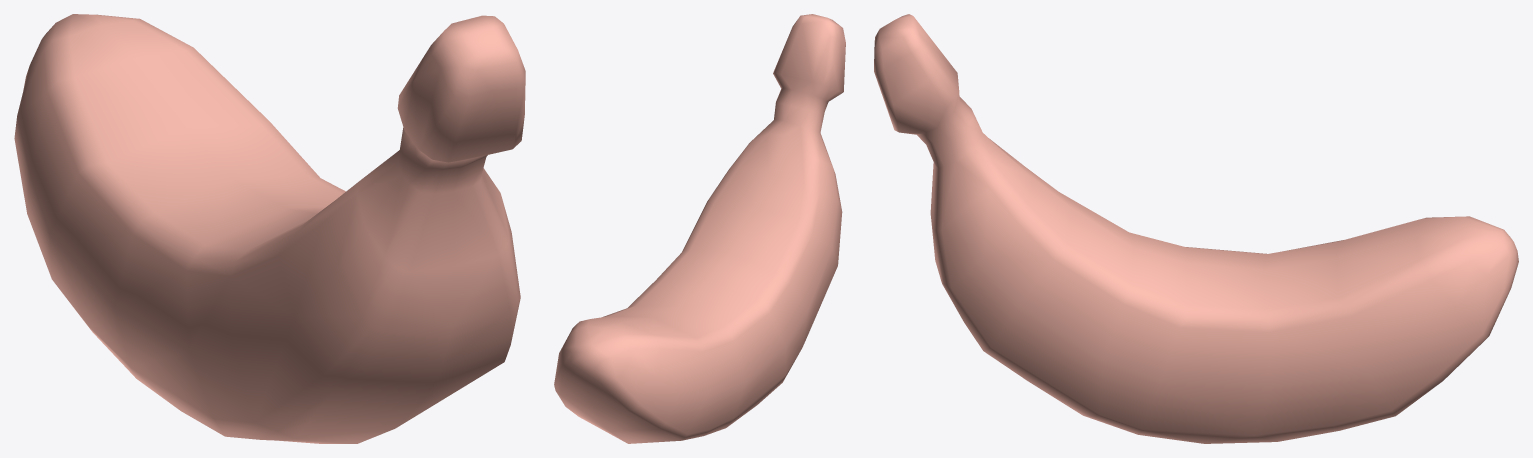
Rendered from banana.fbx.
3 renders of one model, left to right at view 1: azimuth 30°, elevation 25°; view 2: azimuth 150°, elevation 25°; view 3: azimuth 270°, elevation 25°, orthographic. The views are drawn at different scales.
Parts seen in each view (by area): view 1: banana; view 2: banana; view 3: banana.
Boxes of the visible parts, <box> form: banana: <box>14,14,525,443</box>; banana: <box>554,14,845,443</box>; banana: <box>874,14,1518,443</box>.
Size of what is drawn, in the model's own units: 28.86 by 64.21 by 91.76.
